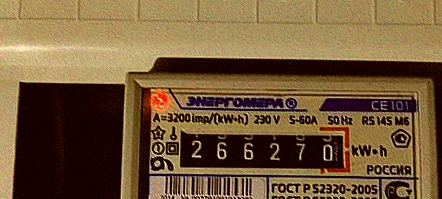0: (321, 140, 333, 162)
2: (189, 136, 204, 158), (268, 139, 280, 160)
6: (215, 139, 228, 159), (241, 140, 254, 159)
7: (293, 140, 306, 161)
screen: (170, 118, 358, 179)
